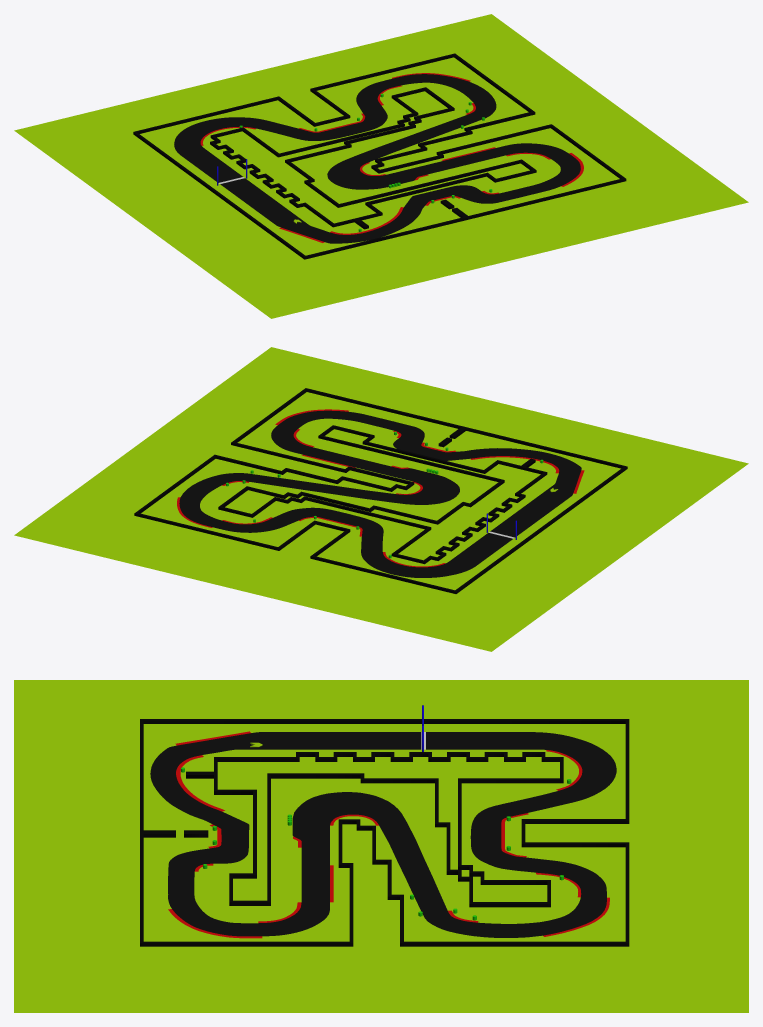
3 views of the same model, one above another, from view 1: azimuth 30°, elevation 25°; view 2: azimuth 150°, elevation 25°; view 3: azimuth 270°, elevation 25° (orthographic). The views are drawn at different scales.
Parts seen in each view (by area): view 1: Boost_panel.001; view 2: Boost_panel.001; view 3: Boost_panel.001.
Part boxes in pixels (x1=…): Boost_panel.001: x1=14, y1=14, x2=748, y2=318; Boost_panel.001: x1=14, y1=347, x2=748, y2=651; Boost_panel.001: x1=14, y1=680, x2=748, y2=1012.
Size of the model in its own units: 619 by 31.89 by 578.
